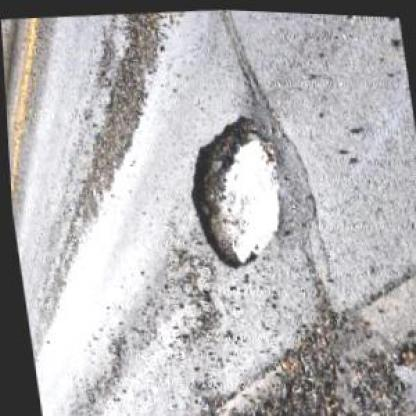pothole: (174, 105, 288, 272)
